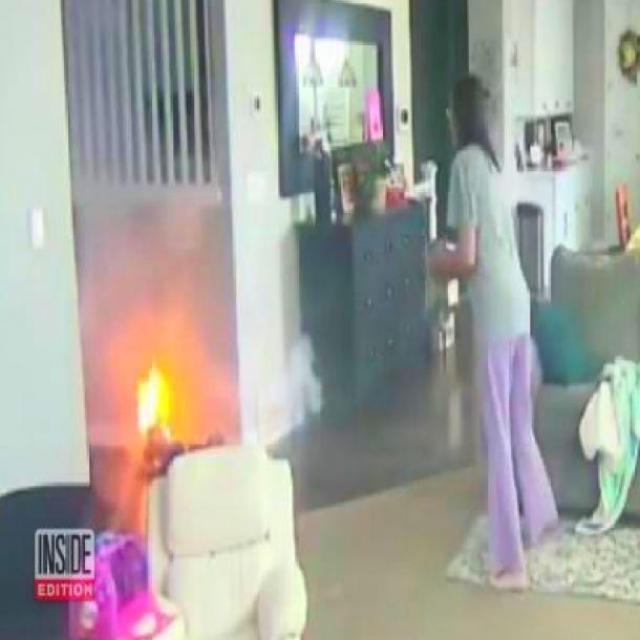fire: (218, 331, 317, 455)
smoke: (130, 354, 180, 438)
